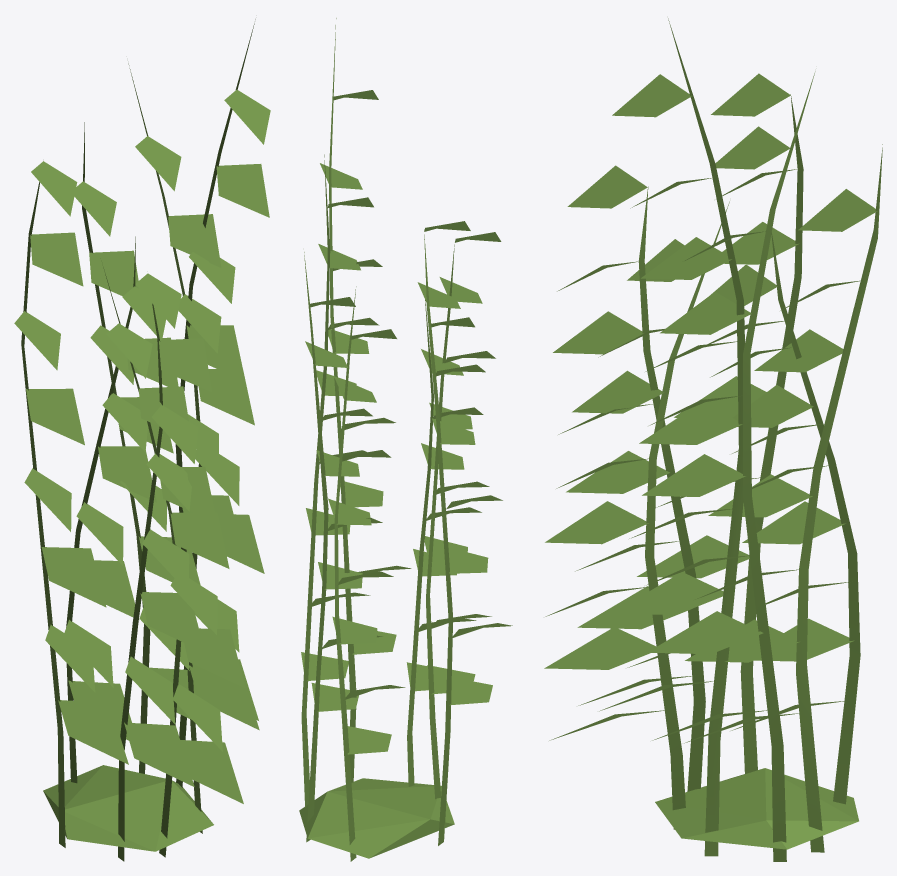
File: KelpCluster_LOD1.glb
The picture shows the model from 3 angles, left to right: view 1: azimuth 30°, elevation 25°; view 2: azimuth 150°, elevation 25°; view 3: azimuth 270°, elevation 25°; orthographic projection. The views are drawn at different scales.
Parts seen in each view (by area): view 1: KelpCluster_LOD1; view 2: KelpCluster_LOD1; view 3: KelpCluster_LOD1.
Part boxes in pixels (<box>): KelpCluster_LOD1: <box>14,19,270,861</box>; KelpCluster_LOD1: <box>299,18,512,861</box>; KelpCluster_LOD1: <box>544,18,882,861</box>.
Bounding box in the file's own units: 0.4516 × 1.69 × 0.6031.
